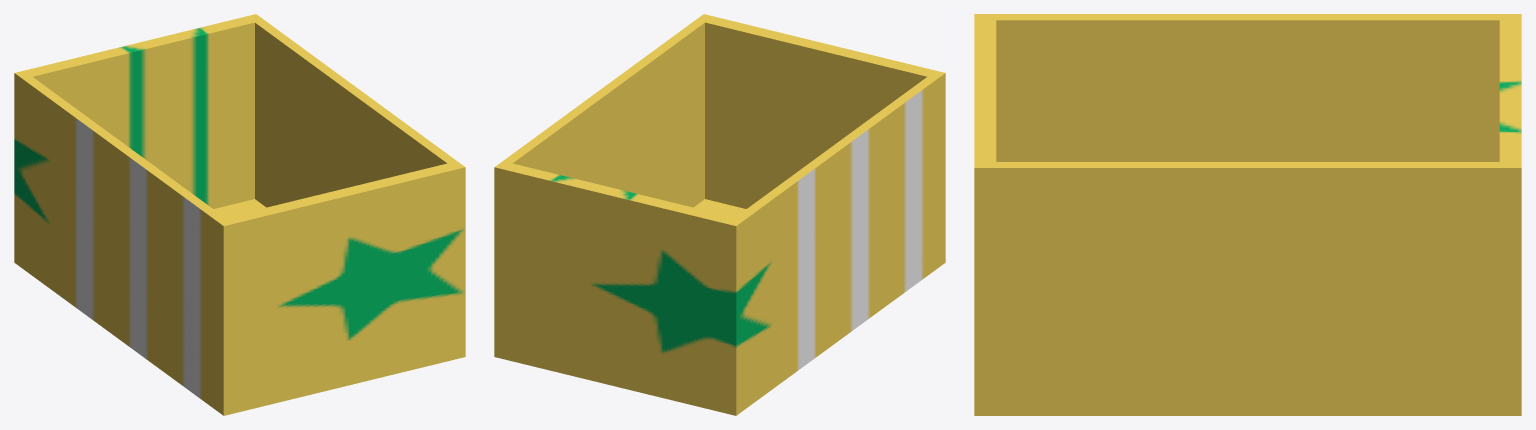
File: おもちゃの箱.fbx
The picture shows the model from 3 angles, left to right: view 1: azimuth 30°, elevation 25°; view 2: azimuth 150°, elevation 25°; view 3: azimuth 270°, elevation 25°; orthographic projection. The views are drawn at different scales.
Parts seen in each view (by area): view 1: Cube; view 2: Cube; view 3: Cube.
Boxes of the visible parts, <box> form: Cube: <box>14,14,465,415</box>; Cube: <box>494,14,945,415</box>; Cube: <box>974,14,1521,415</box>.
Size of the model in its own units: 400 by 300 by 600.
